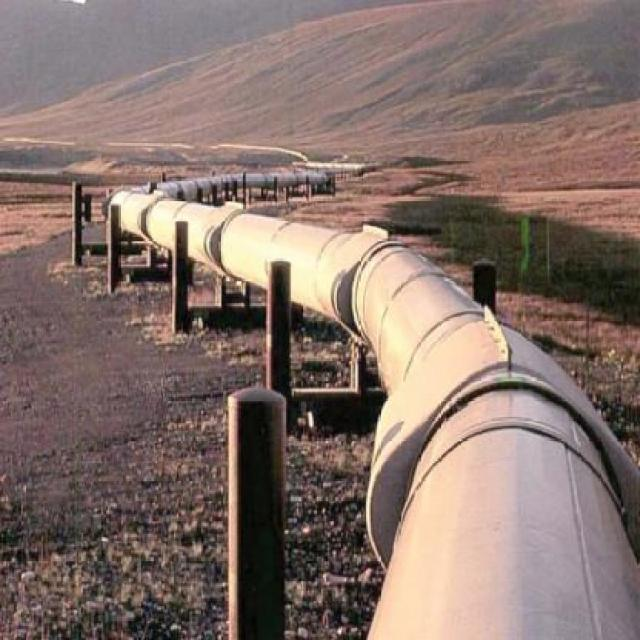gas: (101, 181, 640, 638)
